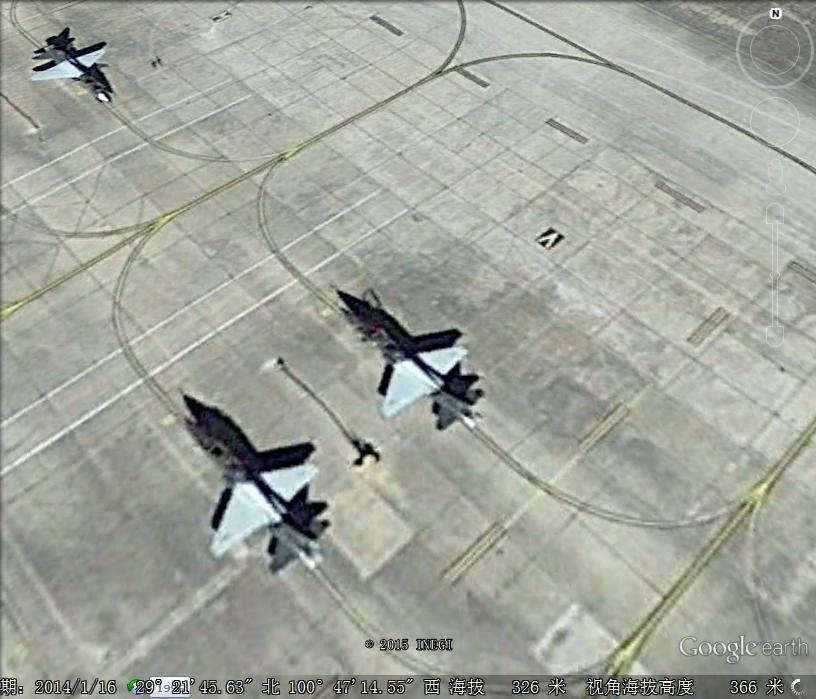plane: (170, 409, 338, 576), (331, 298, 486, 433), (30, 30, 120, 106)
